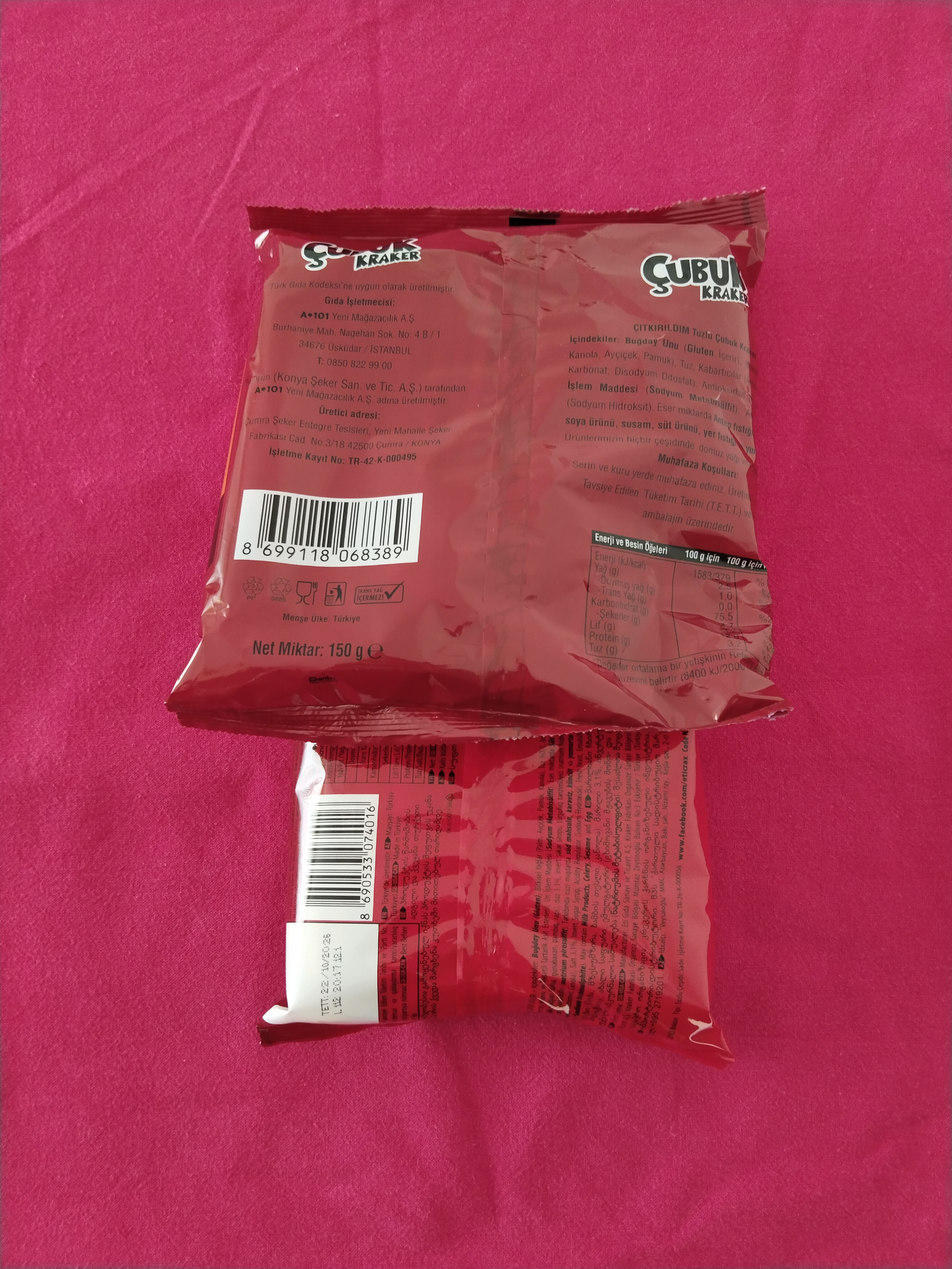citkirildim_cubuk_kraker: (173, 188, 779, 739)
eti_crax_cubuk_kraker: (264, 730, 720, 1048)
